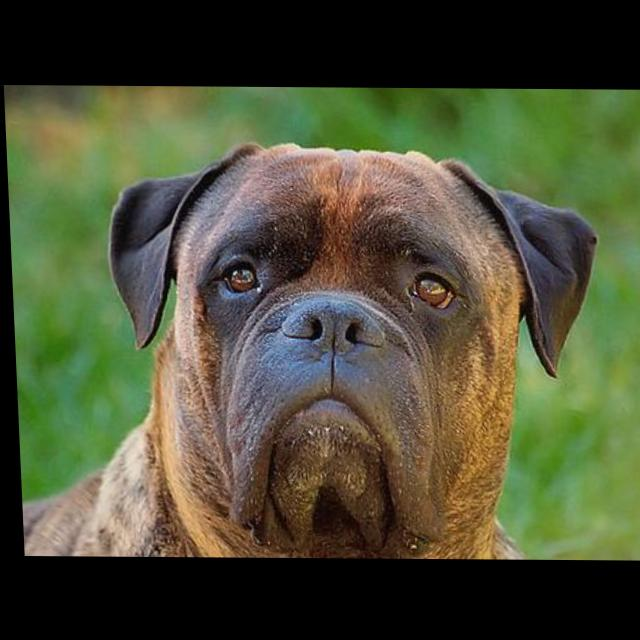bullmastiff: (6, 138, 608, 559)
